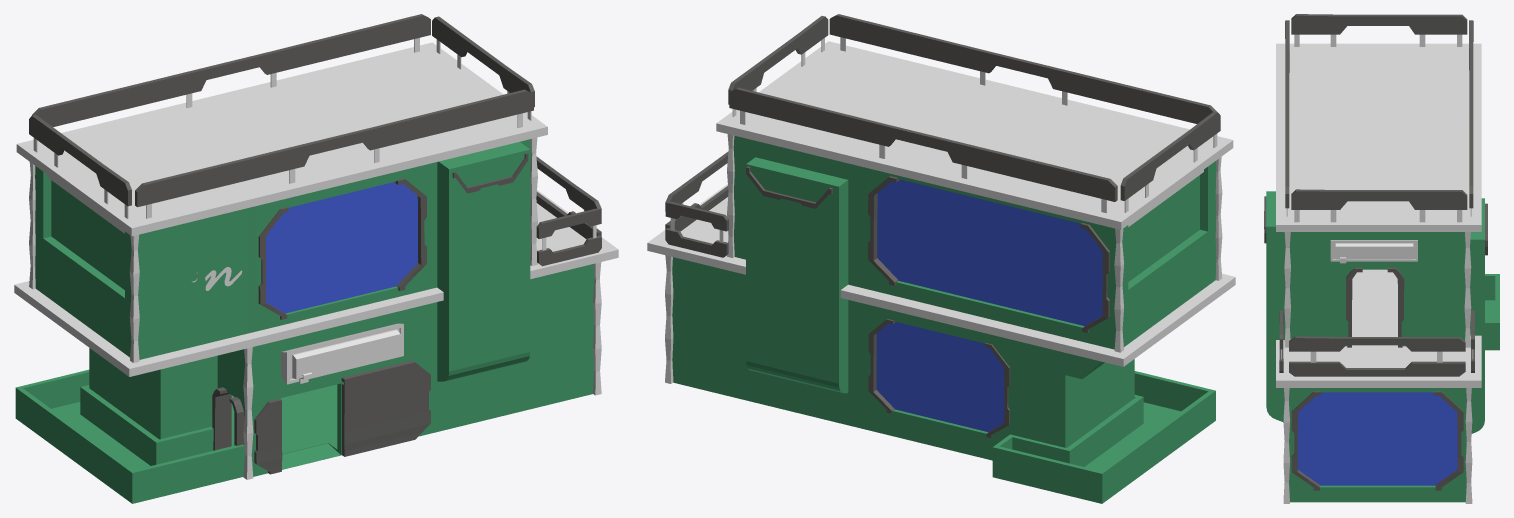
The model's file is Decentraland2.1.glb.
The picture shows the model from 3 angles, left to right: view 1: azimuth 30°, elevation 25°; view 2: azimuth 150°, elevation 25°; view 3: azimuth 270°, elevation 25°; orthographic projection. The views are drawn at different scales.
Visible parts, largest first — view 1: Techo 2, Piso1, Piso 2, Panel1, Cube.079, Pasillo, Cube.007, Cube.014, Cube.058, Cube.105, Cube.107, Cube.020 (+13 smaller); view 2: Techo 2, Piso1, Piso 2, Cube.080, Panel 2, Pasillo, Cube.084, Cube.007, Cube.058, Cube.014, Cube.020, Cube.063 (+11 smaller); view 3: Techo 2, Cube.081, Piso 2, Cube.007, Piso1, Panel1, Cube.020, Cube.063, Panel 2, Cube.040, Cube.039, Cube.097 (+11 smaller).
Boxes of the visible parts, bbox=[...] form: Techo 2: bbox=[16, 42, 547, 236]; Piso1: bbox=[89, 264, 594, 476]; Piso 2: bbox=[35, 139, 530, 359]; Panel1: bbox=[437, 142, 530, 381]; Cube.079: bbox=[266, 182, 417, 313]; Pasillo: bbox=[15, 369, 244, 503]; Cube.007: bbox=[14, 190, 618, 376]; Cube.014: bbox=[135, 89, 533, 207]; Cube.058: bbox=[32, 14, 430, 126]; Cube.105: bbox=[341, 360, 430, 456]; Cube.107: bbox=[281, 323, 403, 384]; Cube.020: bbox=[29, 115, 131, 206]; Techo 2: bbox=[716, 41, 1233, 229]; Piso1: bbox=[672, 257, 1134, 460]; Piso 2: bbox=[733, 135, 1216, 349]; Cube.080: bbox=[877, 179, 1102, 326]; Panel 2: bbox=[746, 157, 848, 393]; Pasillo: bbox=[992, 371, 1215, 503]; Cube.084: bbox=[876, 322, 1004, 432]; Cube.007: bbox=[647, 184, 1235, 366]; Cube.058: bbox=[729, 87, 1117, 201]; Cube.014: bbox=[829, 14, 1216, 123]; Cube.020: bbox=[1120, 111, 1220, 200]; Cube.063: bbox=[728, 16, 828, 104]; Techo 2: bbox=[1276, 43, 1481, 231]; Cube.081: bbox=[1297, 392, 1457, 485]; Piso 2: bbox=[1289, 232, 1465, 346]; Cube.007: bbox=[1276, 269, 1481, 387]; Piso1: bbox=[1289, 388, 1466, 502]; Panel1: bbox=[1266, 191, 1285, 422]; Cube.020: bbox=[1291, 14, 1467, 34]; Cube.063: bbox=[1291, 189, 1467, 209]; Panel 2: bbox=[1470, 198, 1484, 433]; Cube.040: bbox=[1289, 361, 1465, 376]; Cube.039: bbox=[1289, 336, 1465, 351]; Cube.097: bbox=[1330, 240, 1417, 261].
Size of what is drawn, in the model's own units: 33.18 by 20.76 by 15.53.
